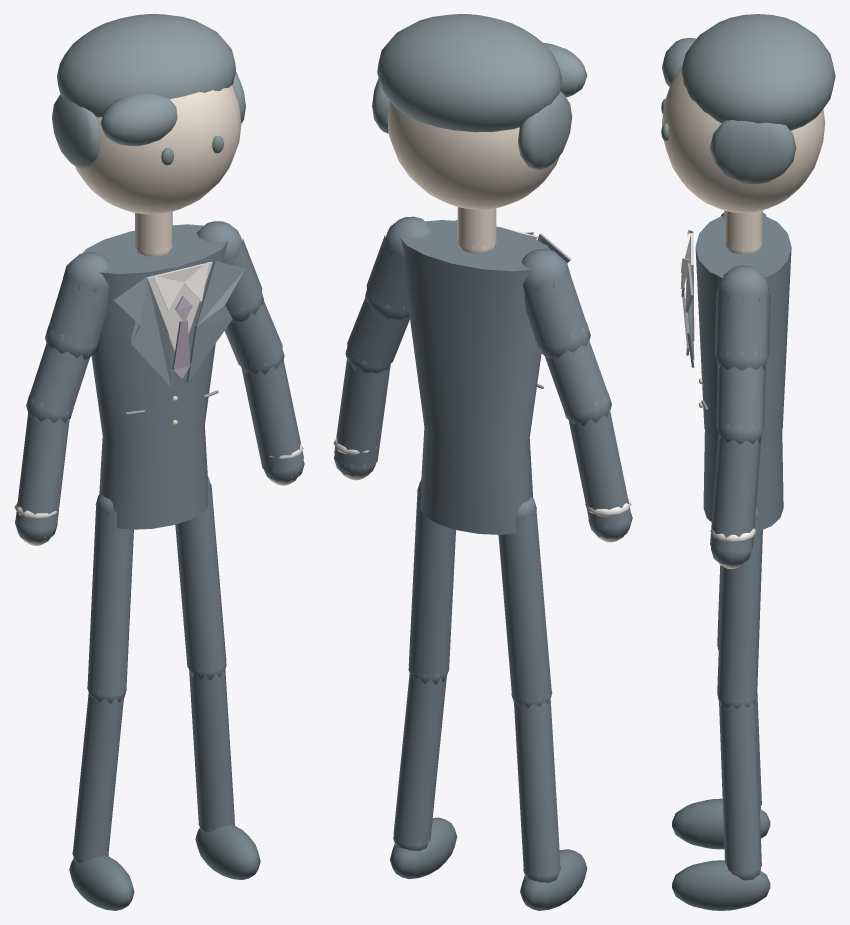
Rendered from avatar-suit.glb.
3 renders of one model, left to right at view 1: azimuth 30°, elevation 25°; view 2: azimuth 150°, elevation 25°; view 3: azimuth 270°, elevation 25°, orthographic. The views are drawn at different scales.
Visible parts, largest first — view 1: Suit character; view 2: Suit character; view 3: Suit character.
Boxes of the visible parts, x1,y1,x2,y2 form: Suit character: [14, 14, 304, 910]; Suit character: [333, 14, 632, 910]; Suit character: [661, 14, 835, 910].
Bounding box in the file's own units: 0.41 × 1.17 × 0.2177.
